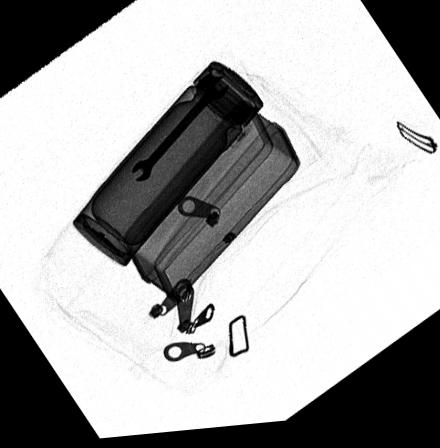Wrench: (130, 77, 230, 185)
